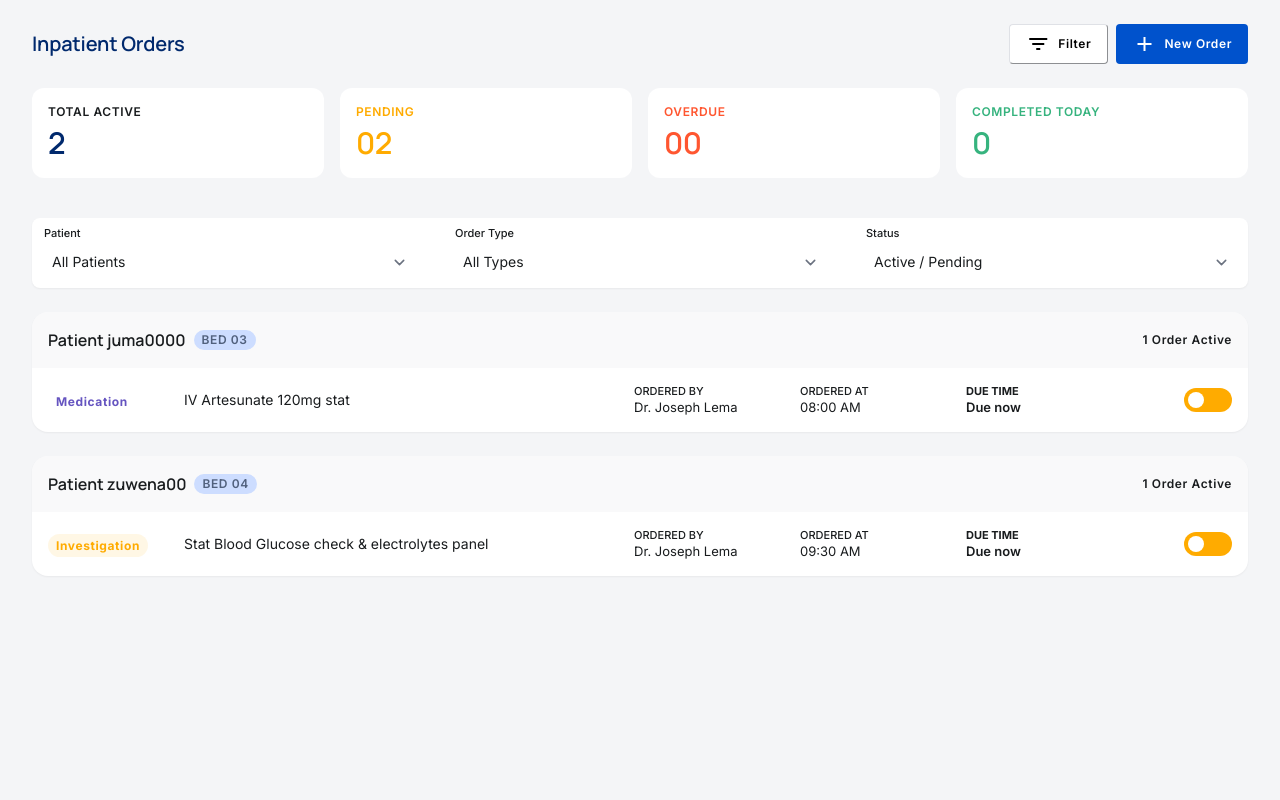
Test: InpatientOrdersPage › filters orders list on order type selection change
Expected: the text "IV Artesunate 120mg stat" is shown, x1=184 y1=391 x2=350 y2=408
Select "Medication" in the dropdown labelled "Order Type": [640, 262] box x1=451 y1=244 x2=829 y2=280
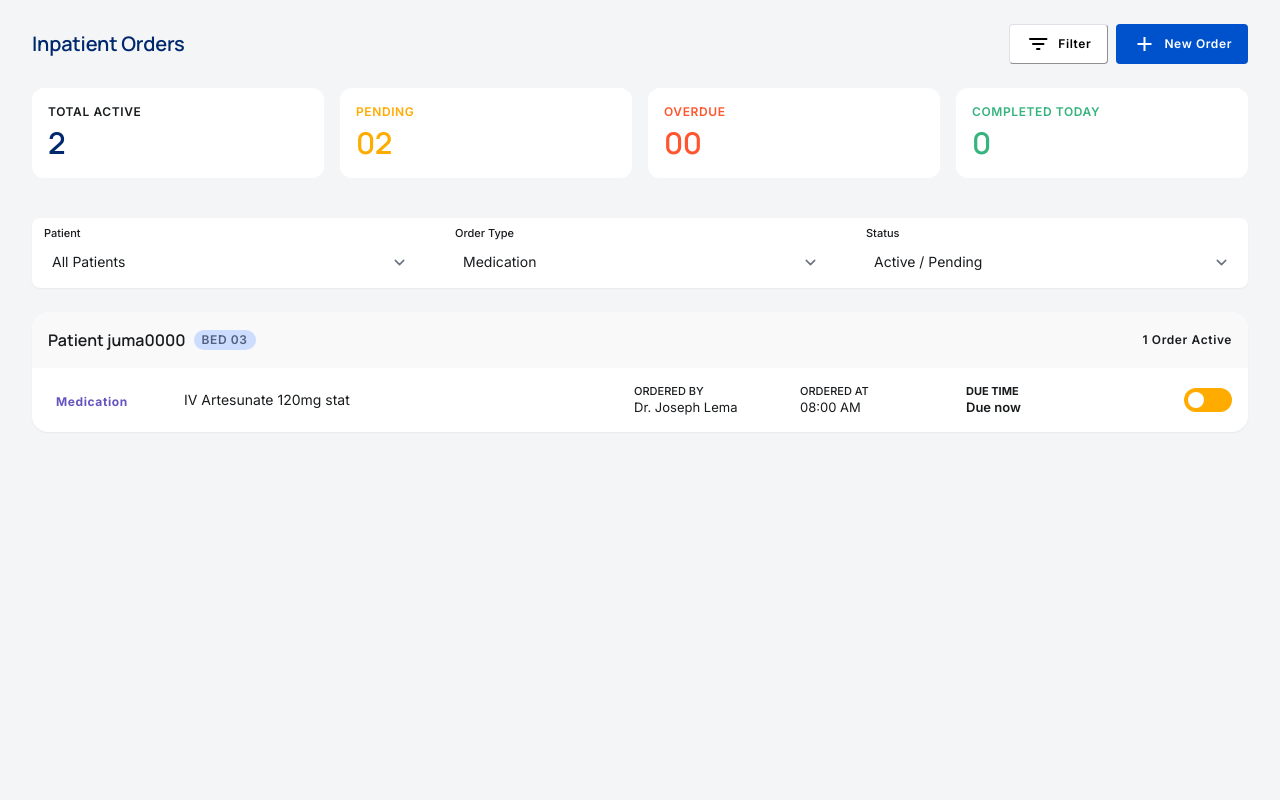
Expected: the text "IV Artesunate 120mg stat" is shown, x1=184 y1=391 x2=350 y2=408
Expected: the text "Stat Blood Glucose check & electrolytes panel" is gone
